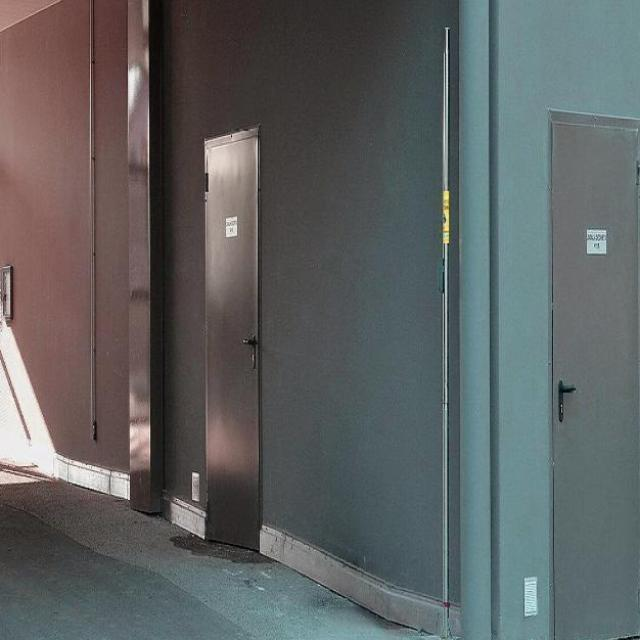door: (538, 99, 640, 639), (203, 124, 261, 550)
